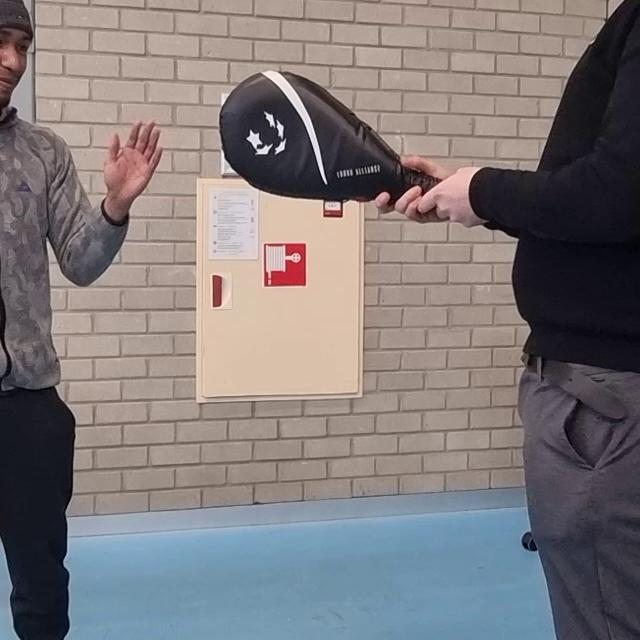paddle: (220, 71, 441, 206)
